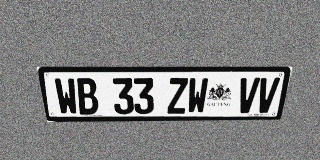3: (112, 78, 134, 114), (133, 78, 154, 114)
B: (75, 78, 99, 115)
V: (255, 78, 280, 113), (236, 78, 260, 113)
W: (53, 78, 79, 115), (187, 78, 209, 114)
Z: (167, 78, 188, 114)
